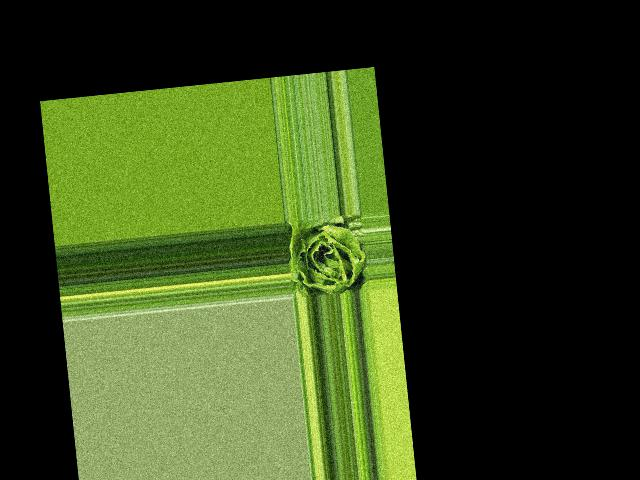lettuce: (285, 213, 368, 297)
